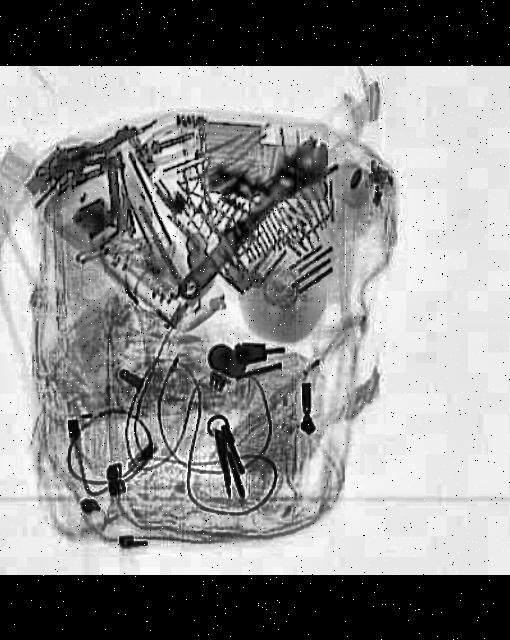Wrench: (162, 130, 340, 306)
